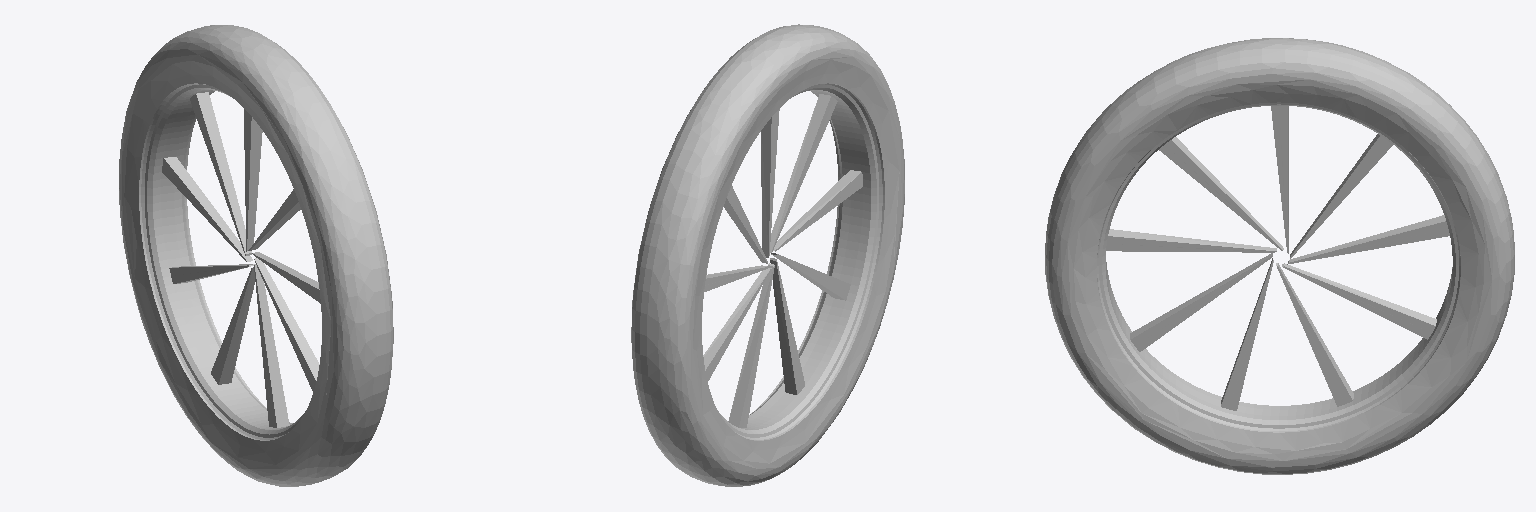
Rendered from CB400SF_RearTire.obj.
The picture shows the model from 3 angles: view 1: azimuth 30°, elevation 25°; view 2: azimuth 150°, elevation 25°; view 3: azimuth 270°, elevation 25°; orthographic projection.
Visible parts, largest first — view 1: FrontTire.001; view 2: FrontTire.001; view 3: FrontTire.001.
Boxes of the visible parts, x1,y1,x2,y2 form: FrontTire.001: [119, 25, 393, 486]; FrontTire.001: [631, 24, 904, 486]; FrontTire.001: [1045, 38, 1514, 474].
Bounding box in the file's own units: 0.2304 × 1.66 × 1.66.